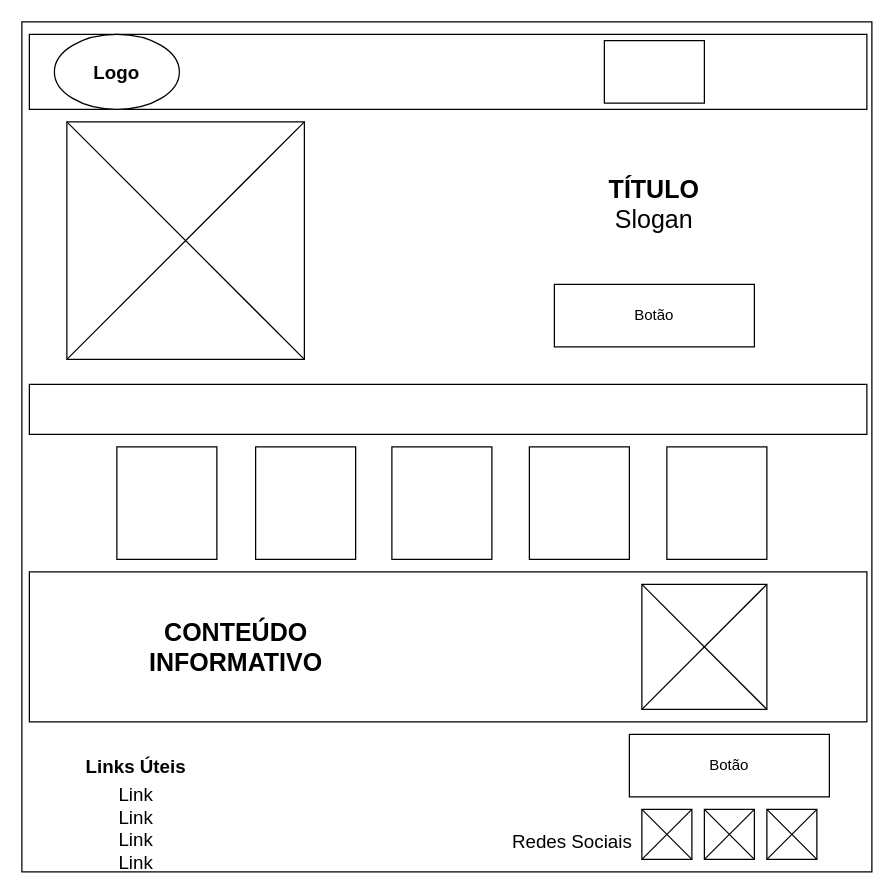
Image size: 894x895. Some labels were removed from this diagram. Here are the shapes that lost their labels. From the top down, the centre of each, then its label:
At point (653, 71): "Link".
At point (447, 408): "CONTEÚDO COMERCIAL".
